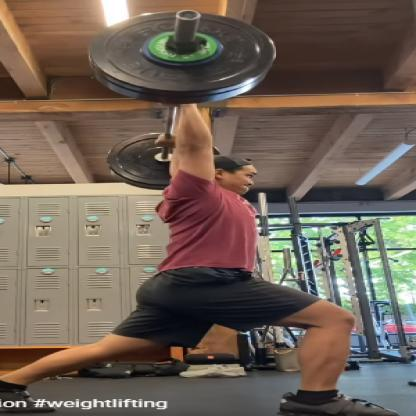Barbell: (174, 9, 208, 24)
